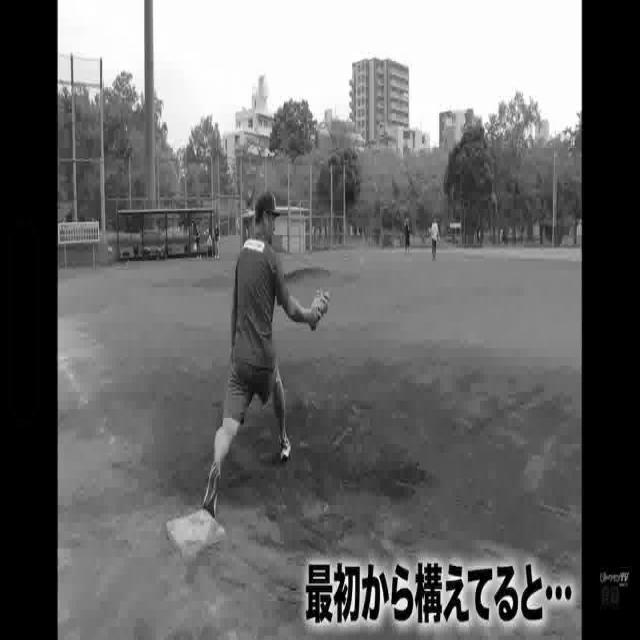base: (167, 507, 225, 567)
baseball_glove: (305, 285, 329, 328)
shoe: (204, 461, 222, 523), (278, 432, 292, 461)
